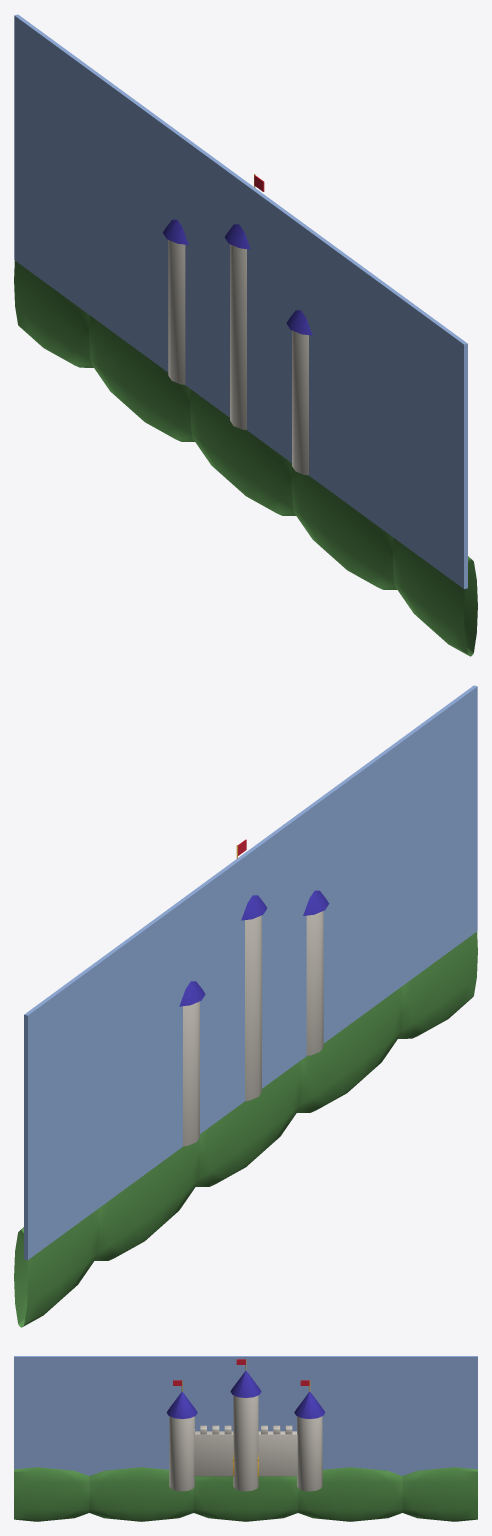
File: BackdropRoyal.fbx
The picture shows the model from 3 angles, top to bottom: view 1: azimuth 30°, elevation 25°; view 2: azimuth 150°, elevation 25°; view 3: azimuth 270°, elevation 25°; orthographic projection. The views are drawn at different scales.
Visible parts, largest first — view 1: BackdropRoyal; view 2: BackdropRoyal; view 3: BackdropRoyal.
Part boxes in pixels (x1=…): BackdropRoyal: x1=14, y1=14, x2=477, y2=656; BackdropRoyal: x1=14, y1=685, x2=477, y2=1327; BackdropRoyal: x1=14, y1=1356, x2=477, y2=1521.
Size of the model in its own units: 537 by 3140 by 8000.
